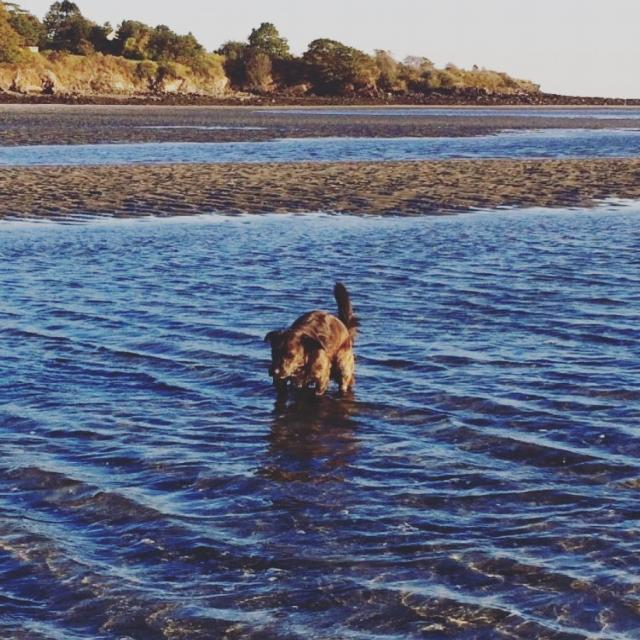squatting: (256, 276, 372, 415)
